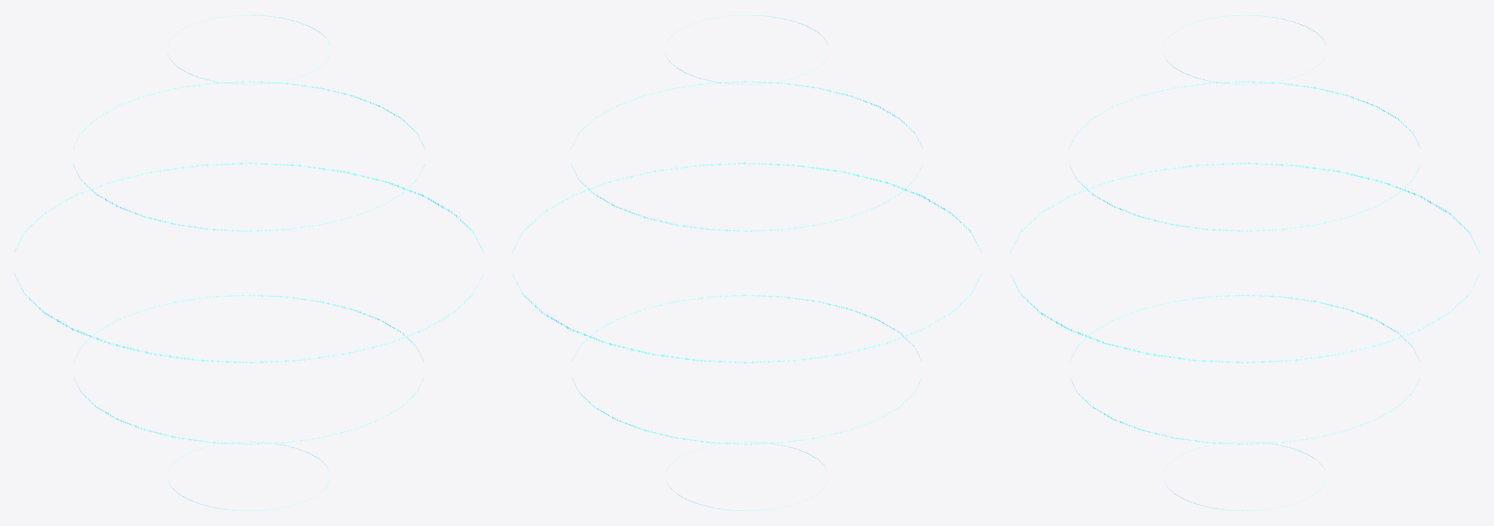
The model's file is ring.gltf.
3 renders of one model, left to right at view 1: azimuth 30°, elevation 25°; view 2: azimuth 150°, elevation 25°; view 3: azimuth 270°, elevation 25°, orthographic.
Visible parts, largest first — view 1: 圆柱体 2, 圆柱体 1, 圆柱体 3; view 2: 圆柱体 2, 圆柱体 3, 圆柱体 1; view 3: 圆柱体 2, 圆柱体 3, 圆柱体 1.
Part boxes in pixels (bbox=[...]): 圆柱体 2: bbox=[14, 162, 483, 363]; 圆柱体 1: bbox=[74, 294, 424, 444]; 圆柱体 3: bbox=[73, 81, 424, 231]; 圆柱体 2: bbox=[512, 162, 981, 363]; 圆柱体 3: bbox=[571, 81, 922, 231]; 圆柱体 1: bbox=[571, 294, 922, 444]; 圆柱体 2: bbox=[1010, 162, 1479, 363]; 圆柱体 3: bbox=[1069, 81, 1420, 231]; 圆柱体 1: bbox=[1069, 294, 1419, 444].
Size of the model in its own units: 201 by 201 by 199.
Materials: 1 (1 with a texture image).
